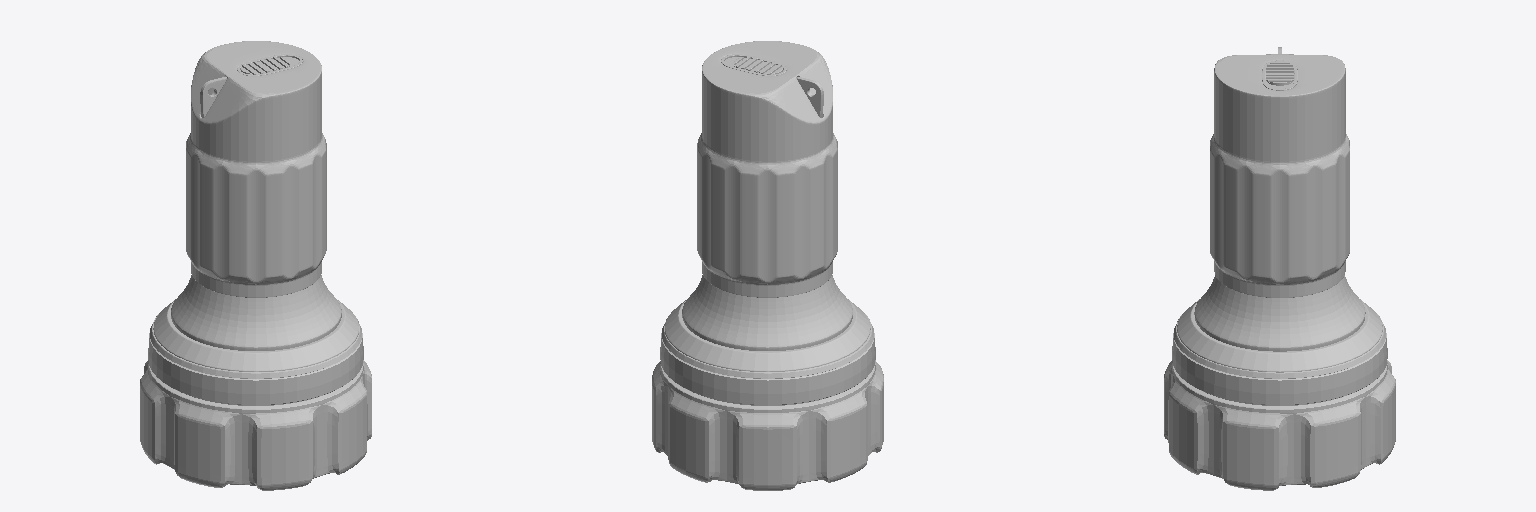
File: Flashlight.obj
3 renders of one model, left to right at view 1: azimuth 30°, elevation 25°; view 2: azimuth 150°, elevation 25°; view 3: azimuth 270°, elevation 25°, orthographic.
Bounding box in the file's own units: 24.91 × 44.51 × 24.9.